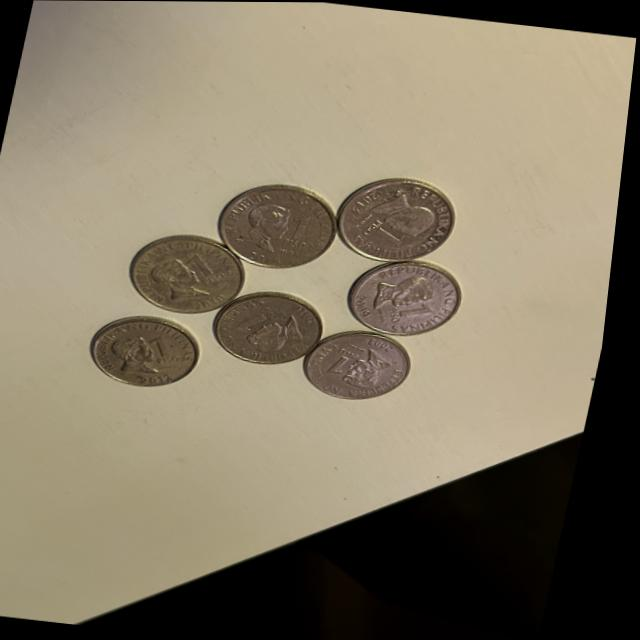1_Old_Front: (186, 245, 240, 288), (361, 207, 418, 247), (390, 293, 447, 326), (329, 339, 375, 379), (286, 207, 325, 252), (152, 333, 192, 367)
